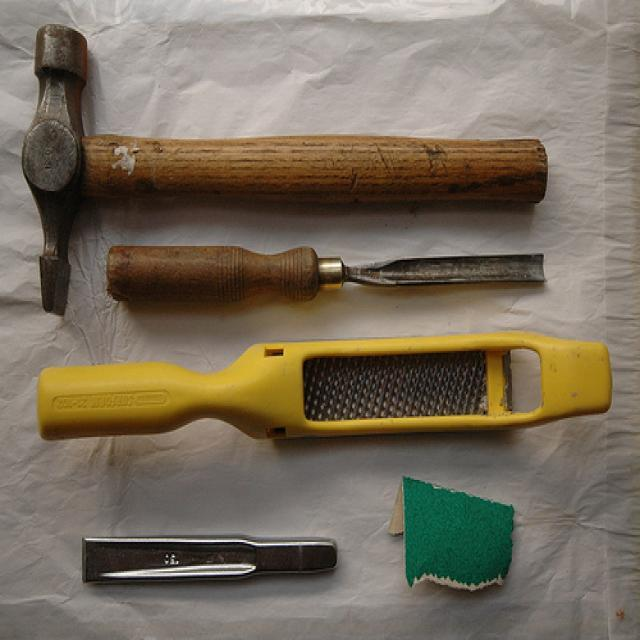hammer: (14, 4, 554, 342)
